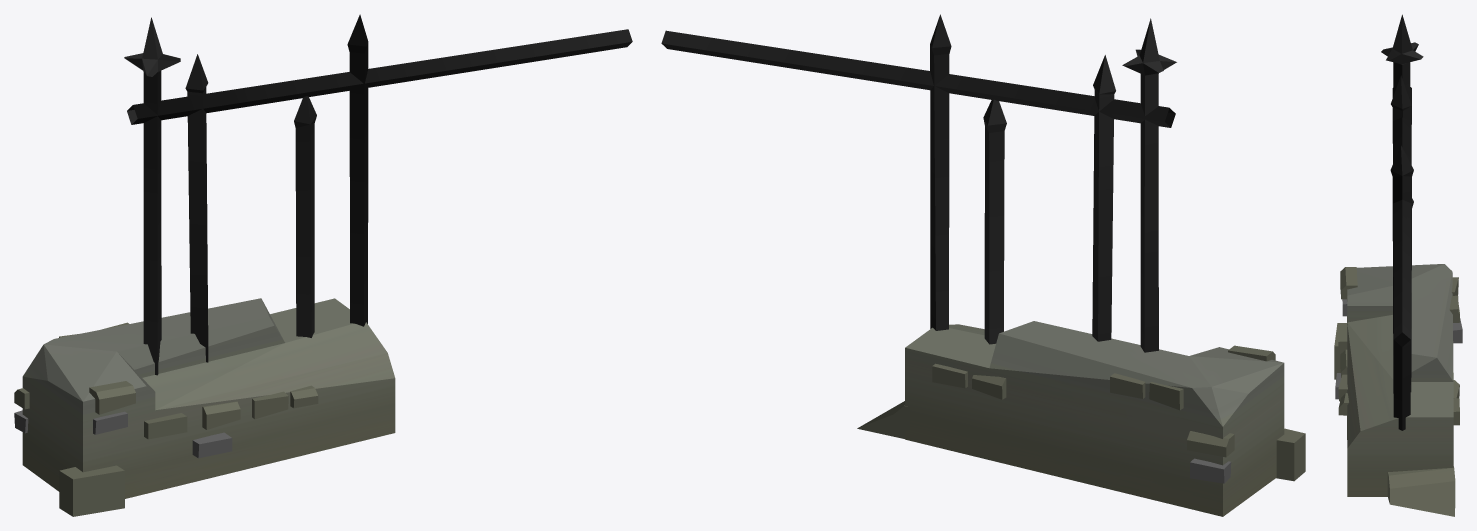
Rendered from ea_arch_wall03_ruin_01c_pre_1_lev1.glb.
3 views of the same model, side by side, from view 1: azimuth 30°, elevation 25°; view 2: azimuth 150°, elevation 25°; view 3: azimuth 270°, elevation 25° (orthographic). The views are drawn at different scales.
Parts seen in each view (by area): view 1: ea_arch_wall03_ruin_01c_pre_1_lev1; view 2: ea_arch_wall03_ruin_01c_pre_1_lev1; view 3: ea_arch_wall03_ruin_01c_pre_1_lev1.
Boxes of the visible parts, <box> form: ea_arch_wall03_ruin_01c_pre_1_lev1: <box>14,14,632,516</box>; ea_arch_wall03_ruin_01c_pre_1_lev1: <box>661,14,1305,516</box>; ea_arch_wall03_ruin_01c_pre_1_lev1: <box>1334,14,1462,516</box>.
Bounding box in the file's own units: 4.07 × 2.93 × 0.867.
Materials: 1 (1 with a texture image).
